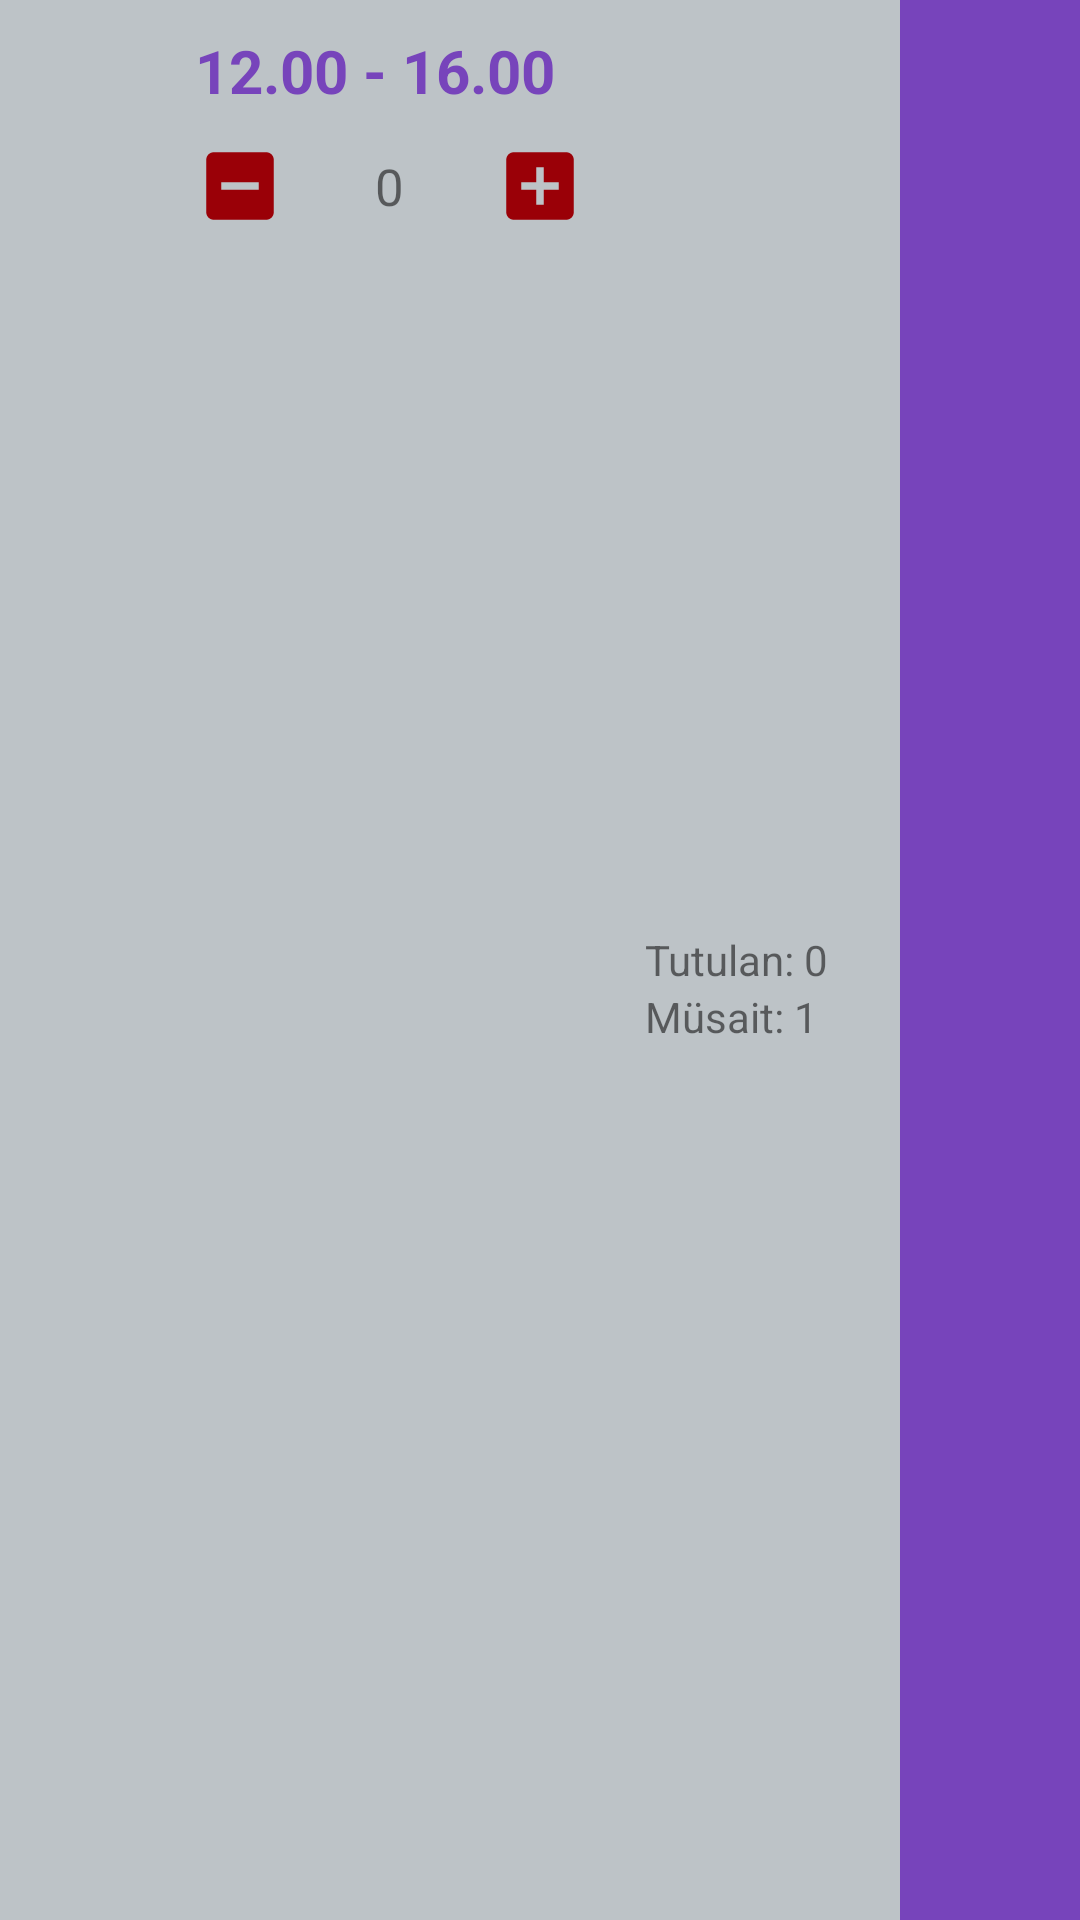

Icon bounding boxes for this 1080 × 1920 phone screenshot, format Rect(x1, y1, x2, y2):
plus: Rect(506, 152, 574, 220)
subtract: Rect(206, 152, 274, 220)
